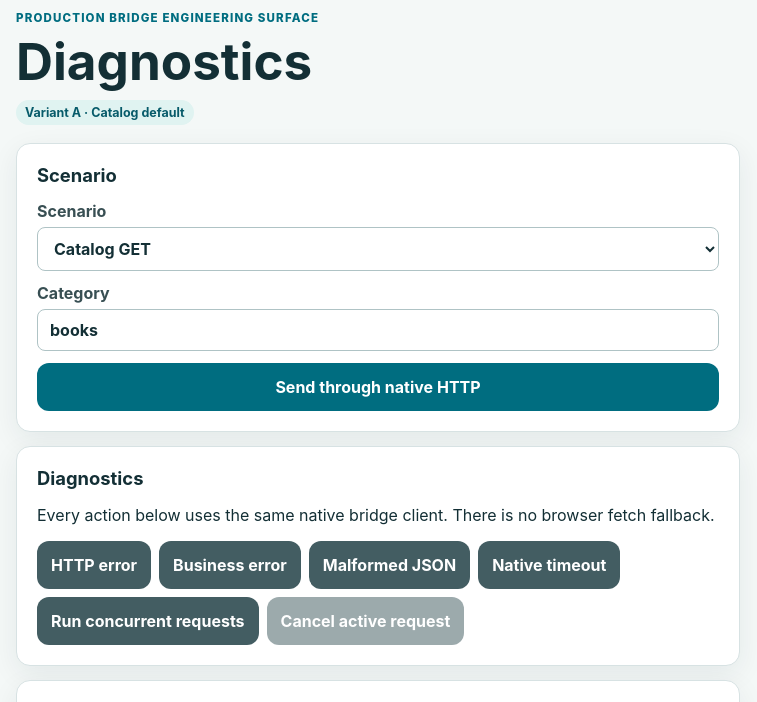
Scenario: opt-in TechnicalPanel with explicitly mocked native boundary › keeps the fast result while cancelling only the slow request
Click the button "Run concurrent requests" at (148, 621), box [37, 597, 259, 645]
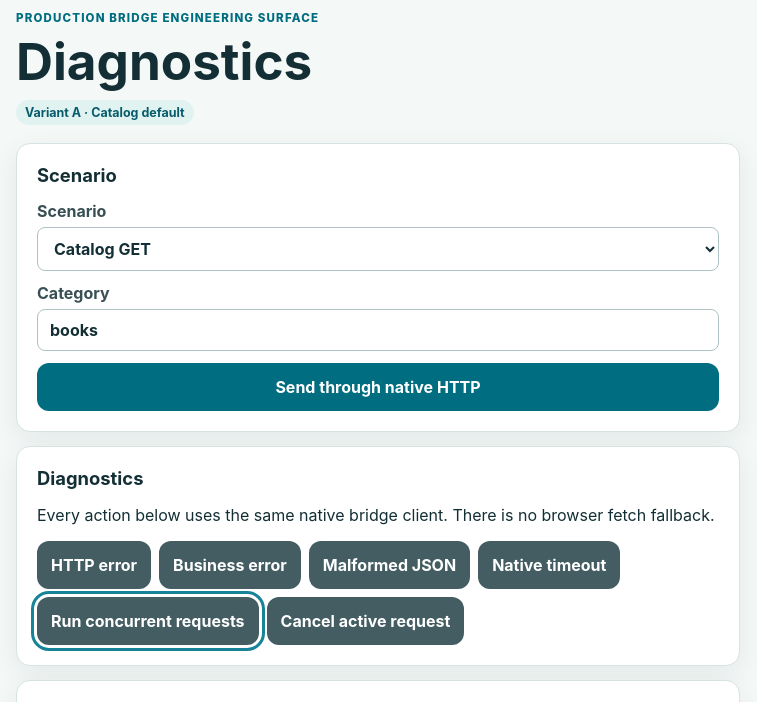
Click the button with test id "lab.cancel" at (365, 621), box [267, 597, 464, 645]
(page scrolled)
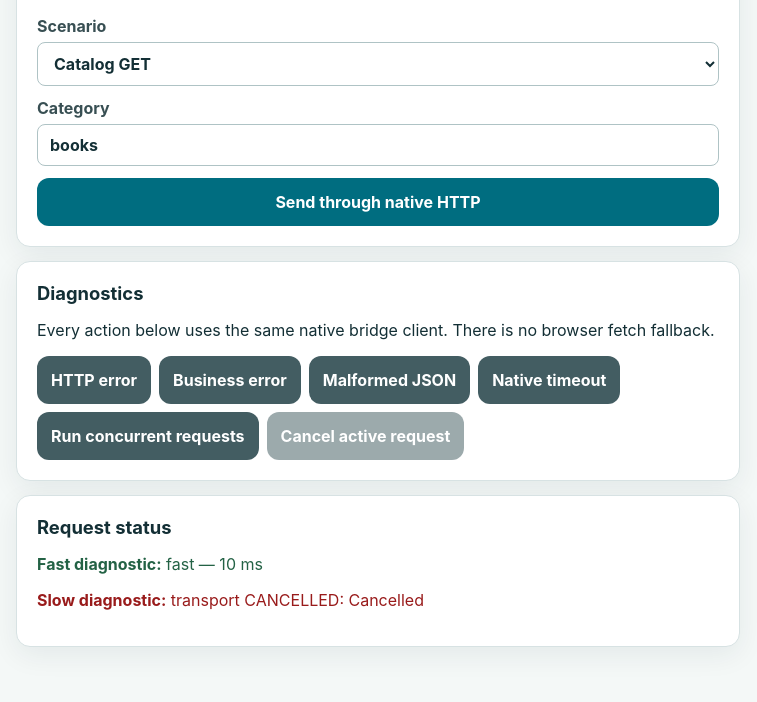
Now the text "Fast diagnostic: fast — 10 ms" is shown, box [37, 554, 263, 574]
Now the message with test id "lab.error" shows "transport CANCELLED", box [171, 590, 424, 610]
